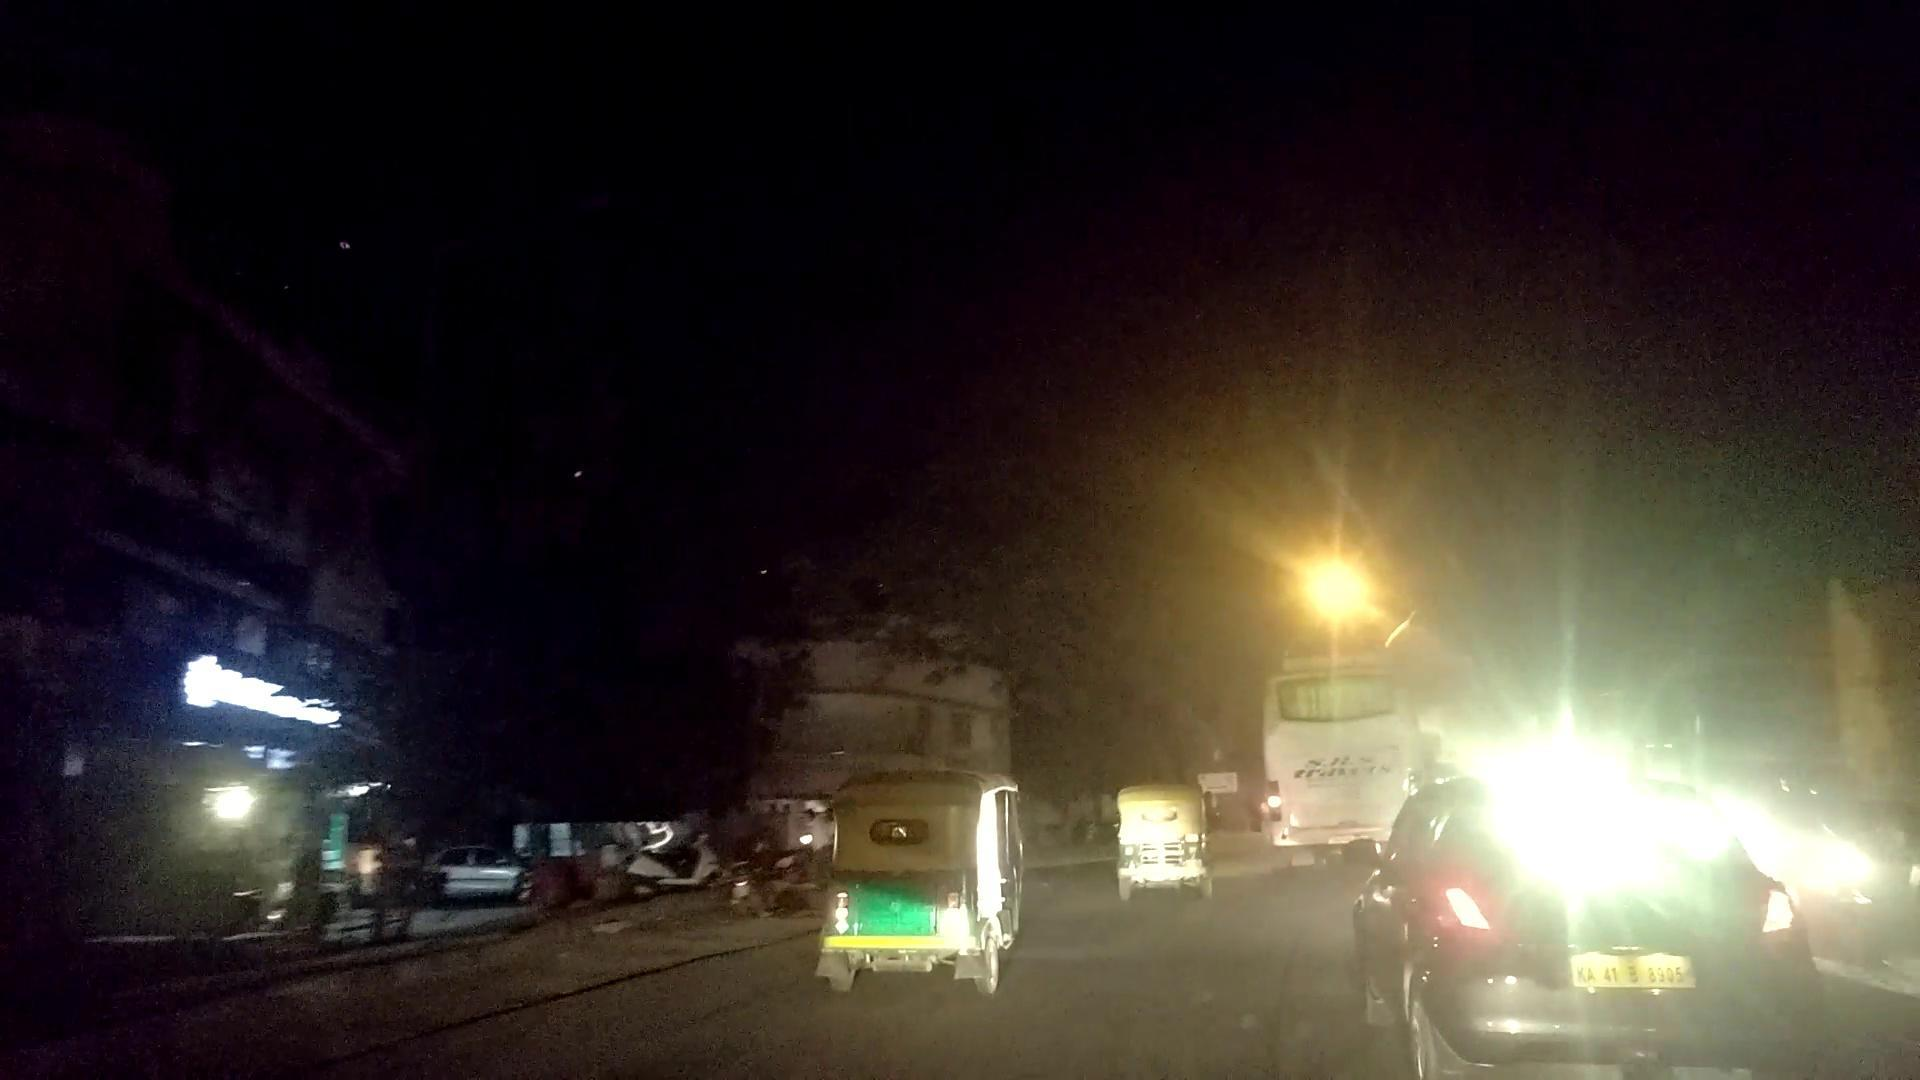on: (1160, 363, 1551, 835)
